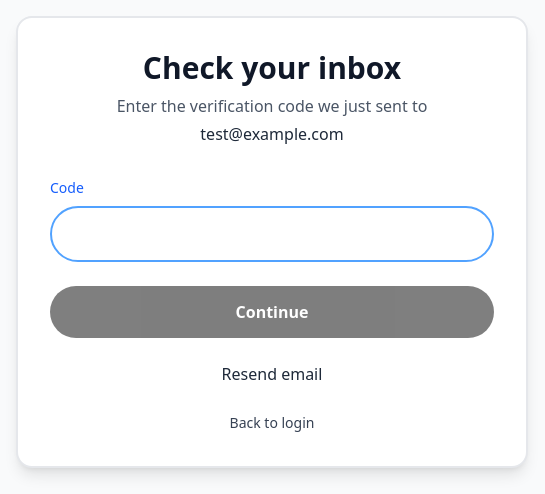
Test: ValidateResetCodePage › shows resending state while resend is in progress
Click the button "Resend email". click: [272, 374]
box: left=222, top=362, right=322, bottom=386
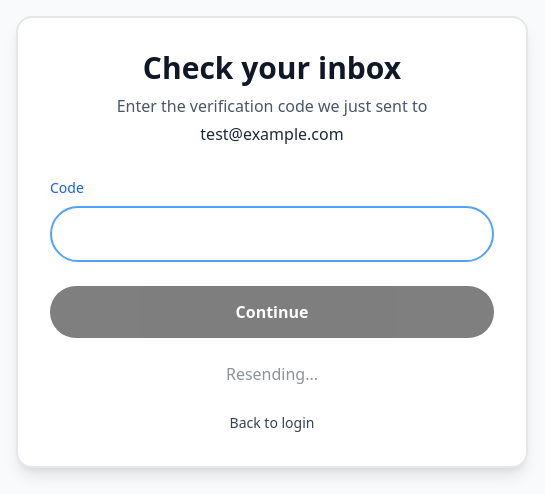
Expected: the button "Resending..." is disabled, left=226, top=362, right=318, bottom=386
